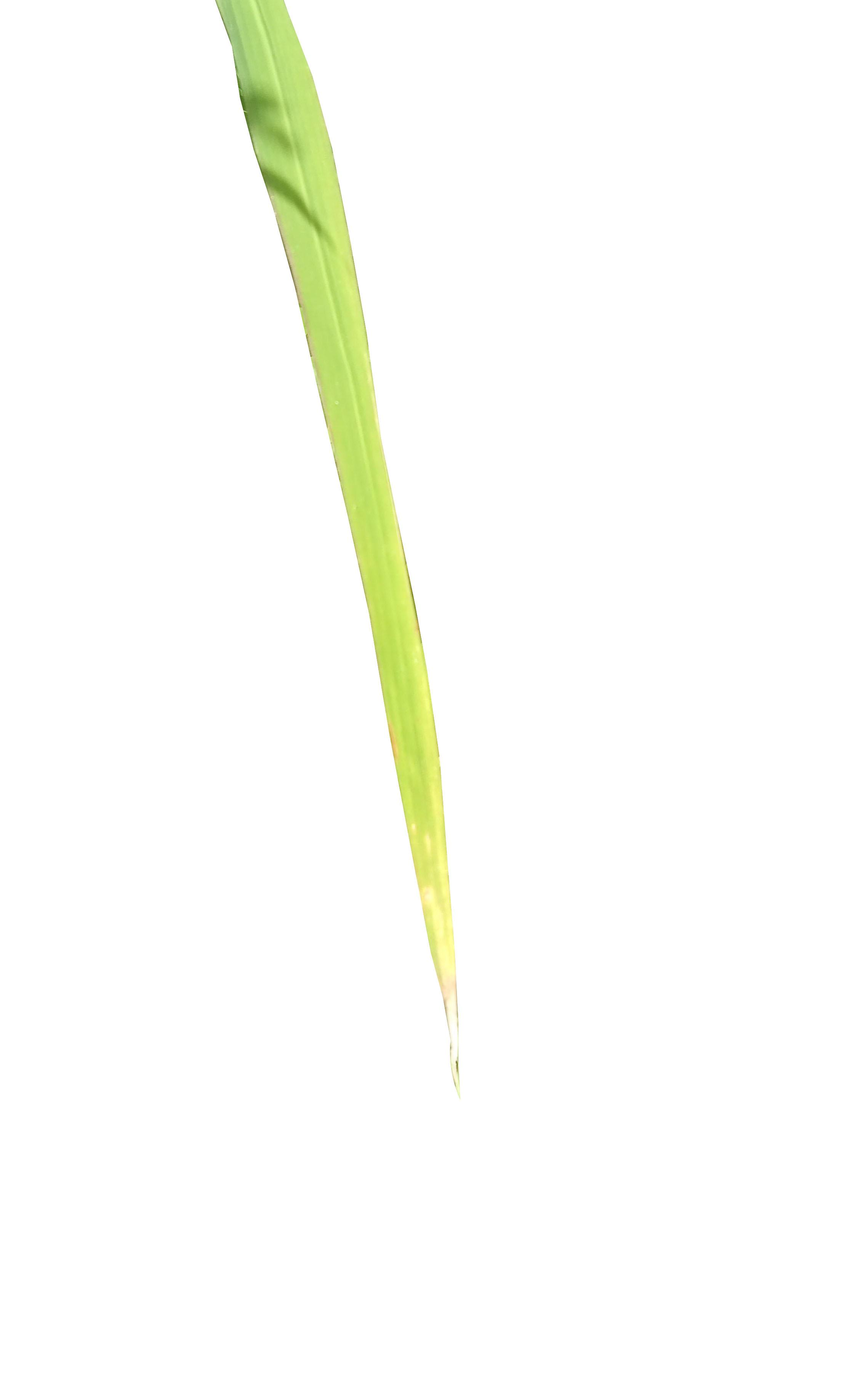Tungro: (212, 0, 468, 1103)
